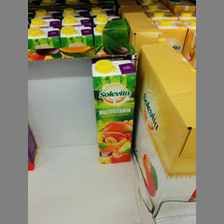juice: (92, 55, 138, 165)
